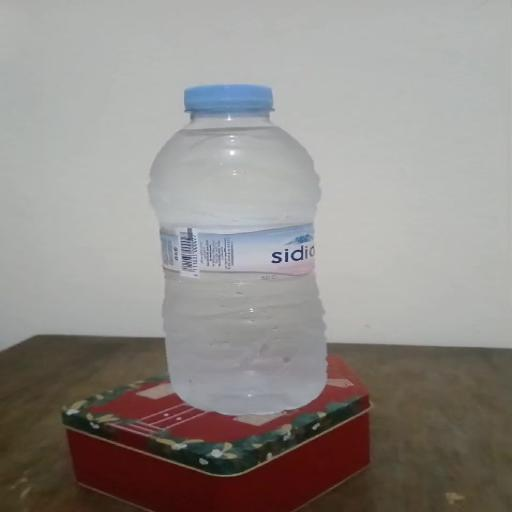bouteille conformite: (122, 76, 332, 416)
